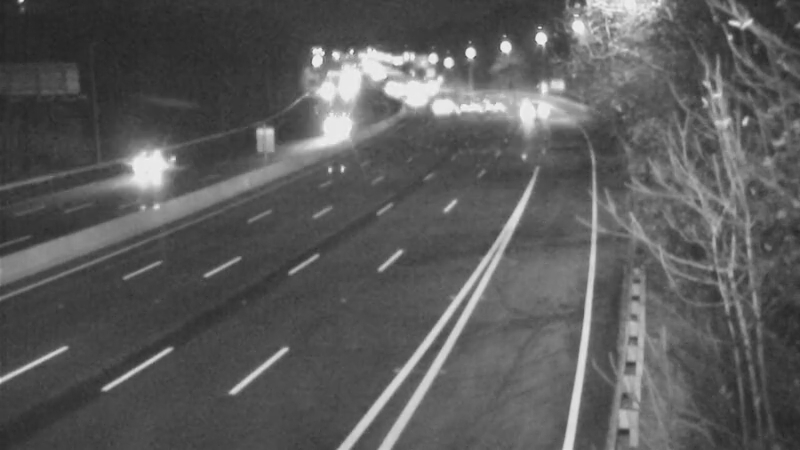vehicle: (75, 136, 155, 216), (391, 73, 441, 123), (409, 77, 459, 127), (469, 80, 519, 130), (440, 80, 490, 130), (504, 90, 554, 140), (301, 117, 351, 167)
